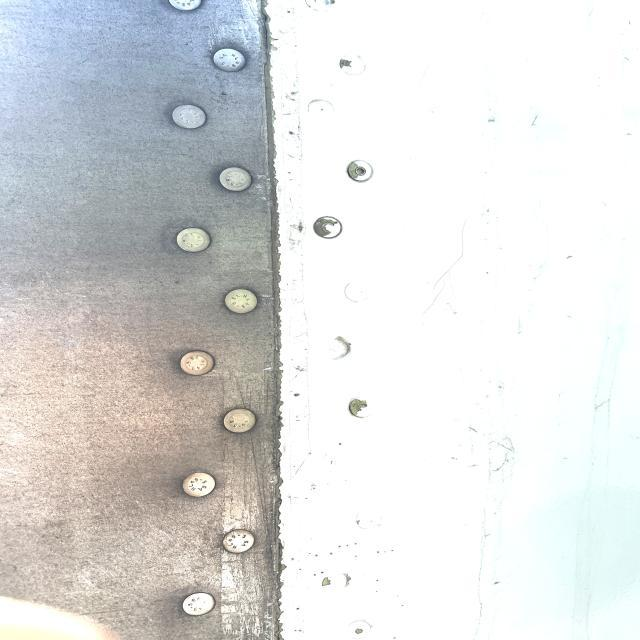crack: (416, 216, 491, 320), (468, 431, 519, 483)
